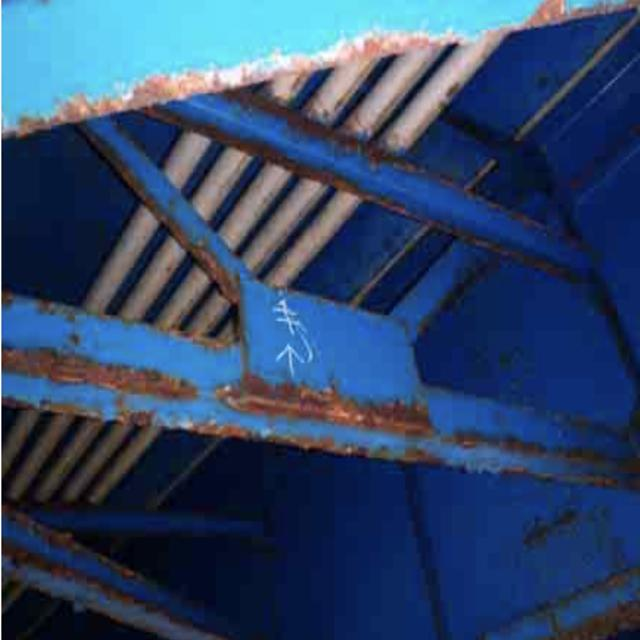corrosion: (27, 43, 603, 261), (14, 294, 622, 493)
